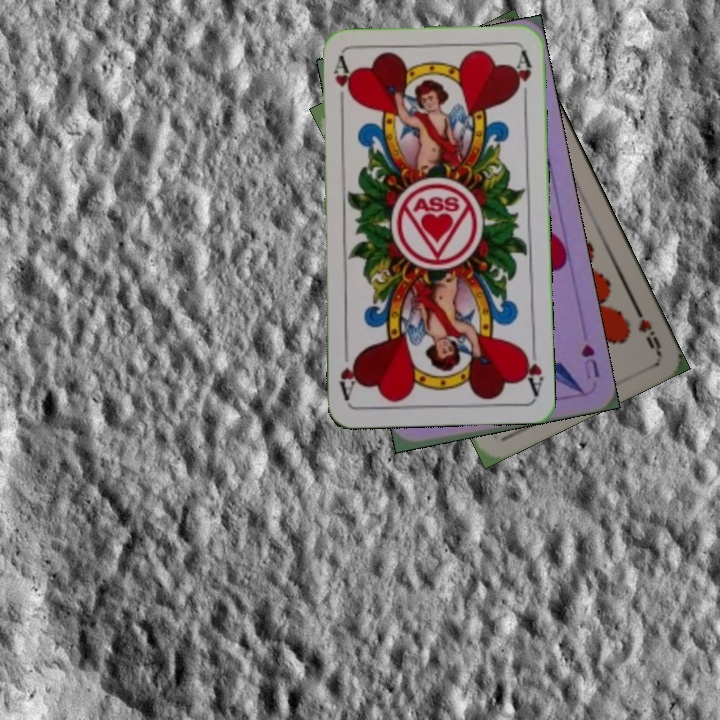H9: (629, 300, 664, 355)
HA: (518, 338, 546, 397), (329, 53, 352, 112)
HU: (577, 340, 602, 382)
